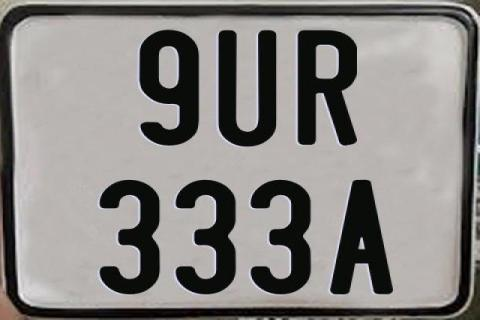0: (138, 27, 203, 145), (99, 180, 164, 298), (250, 180, 314, 294), (173, 180, 234, 294)
A: (330, 178, 393, 294)
R: (297, 31, 356, 146)
U: (218, 28, 281, 144)
